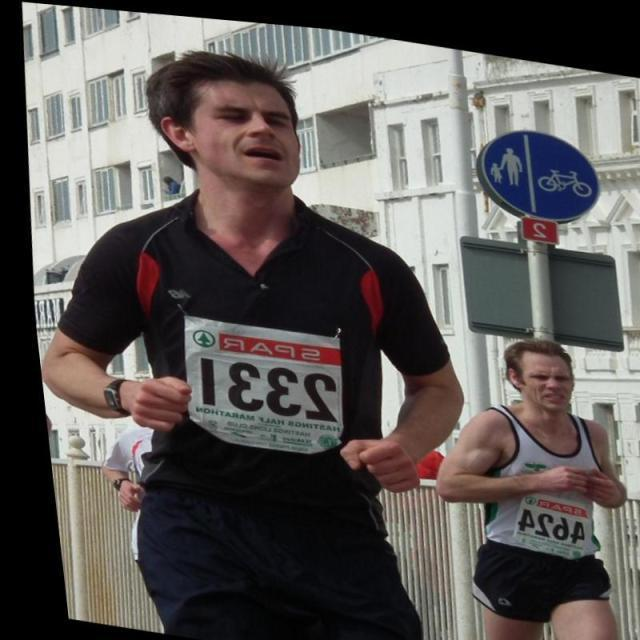dorsal: (144, 298, 363, 466), (479, 472, 606, 556)
